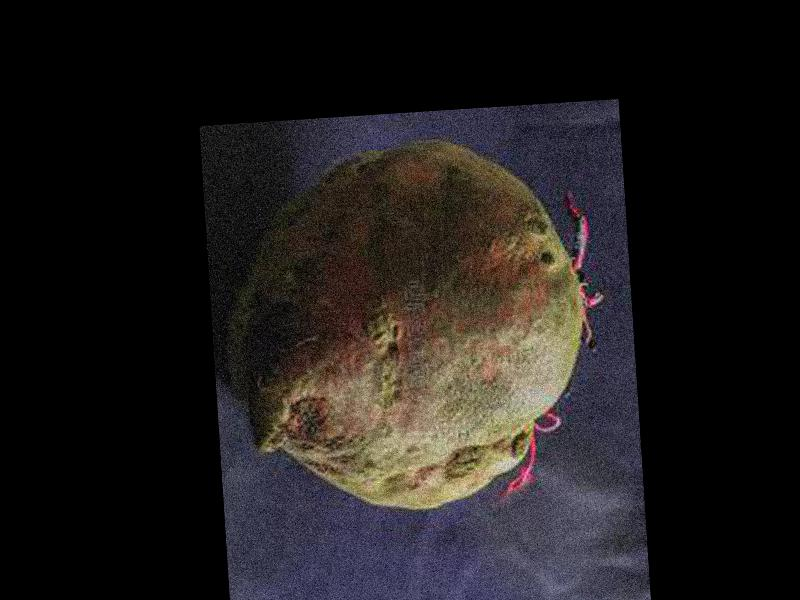Beet: (217, 132, 612, 520)
